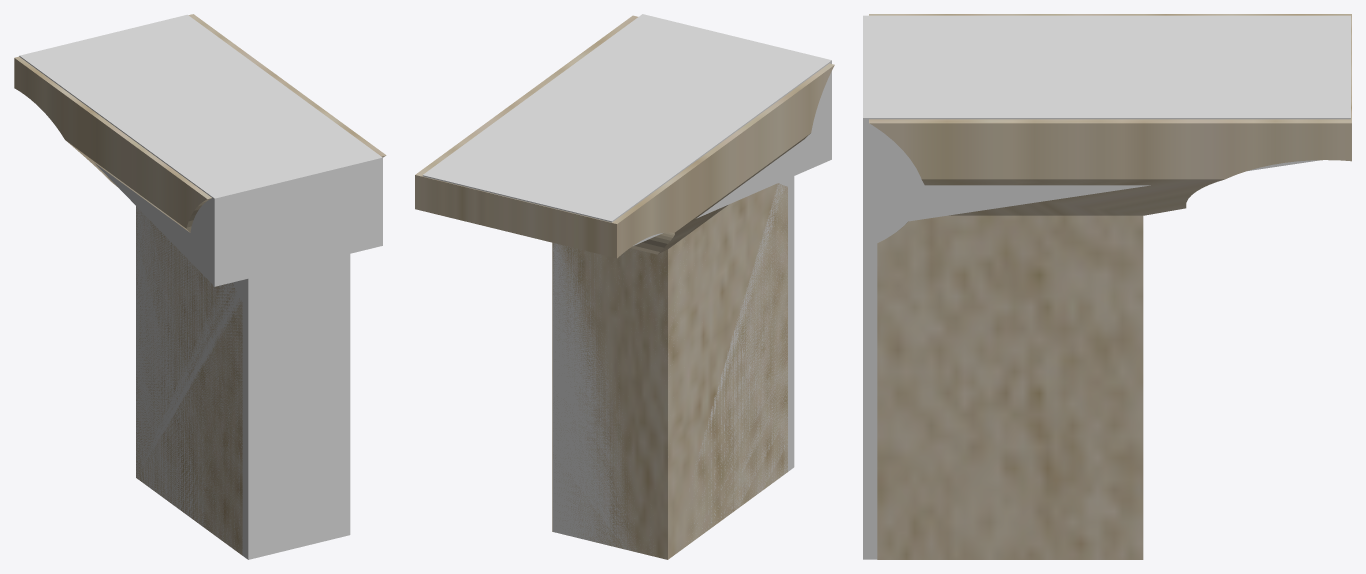
File: OneBreak.gltf
3 views of the same model, side by side, from view 1: azimuth 30°, elevation 25°; view 2: azimuth 150°, elevation 25°; view 3: azimuth 270°, elevation 25° (orthographic). The views are drawn at different scales.
Visible parts, largest first — view 1: COL, Cube; view 2: Cube, COL; view 3: Cube, COL.
Part boxes in pixels (x1,y1,x2,y2): COL: (19, 14, 382, 559); Cube: (14, 14, 386, 555); Cube: (415, 15, 834, 559); COL: (422, 14, 831, 554); Cube: (869, 14, 1351, 559); COL: (863, 15, 1350, 559).
Size of the model in its own units: 1.85 by 3.63 by 3.49.
1 material, 1 textured.
